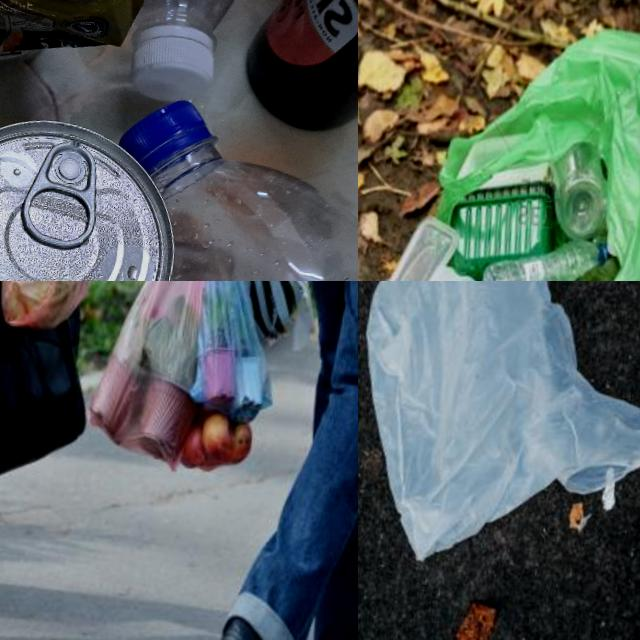aba de lata: (18, 141, 102, 247)
garrafa de vidro: (239, 0, 358, 142)
garrafa plástica: (129, 136, 358, 281), (124, 0, 255, 33)
lata: (0, 104, 186, 281), (0, 0, 152, 70)
sacola plástica: (358, 281, 640, 584), (410, 0, 640, 281), (70, 281, 314, 506), (0, 281, 107, 510)
tampa plástica: (127, 26, 216, 108), (116, 95, 207, 170)
